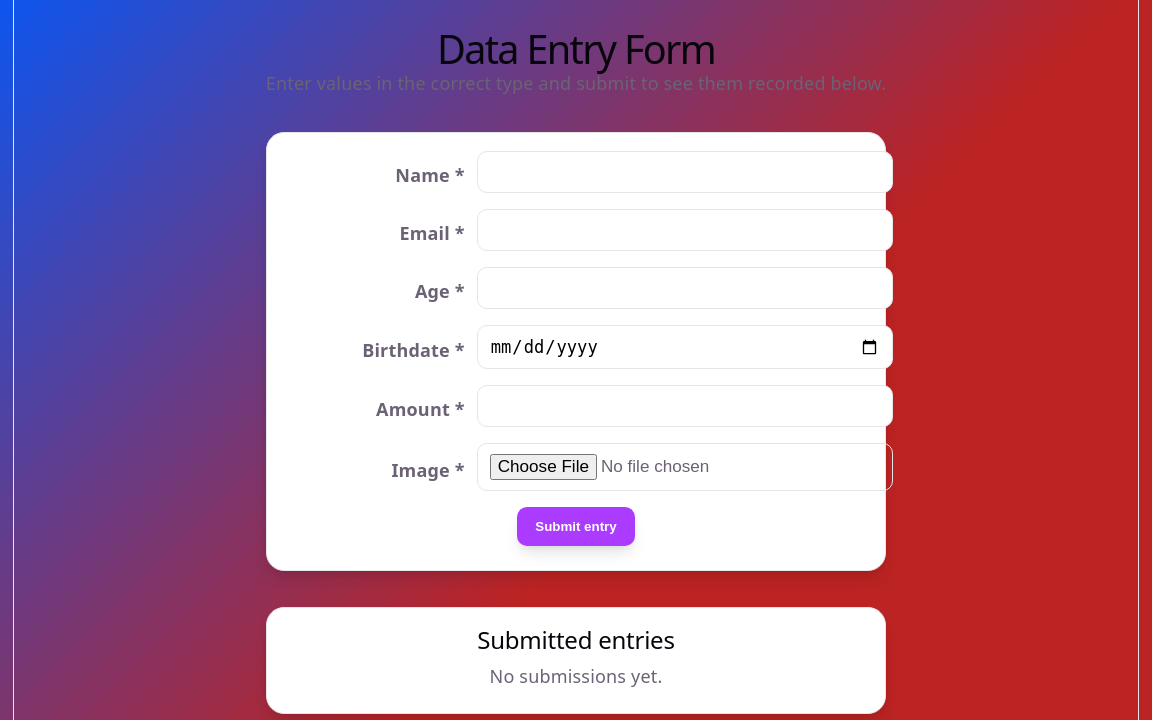
Data entry form › shows errors when required fields are empty
The width and height of the screenshot is (1152, 720).
Click the button with test id "submit-entry". click: point(576, 527)
box: [517,507,635,546]
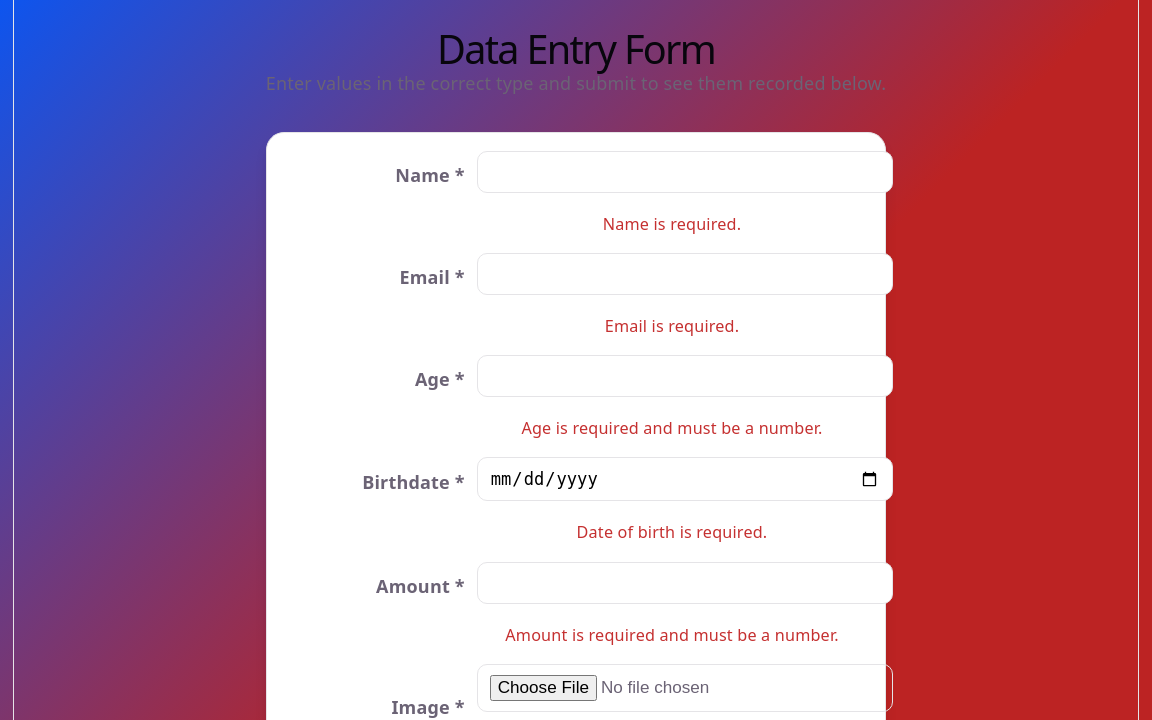
Result: the text with test id "error-name" shows "Name is required" at [603,213,741,235]
Result: the text with test id "error-email" shows "Email is required" at [605,315,740,337]
Result: the text with test id "error-age" shows "Age is required" at [521,417,822,439]
